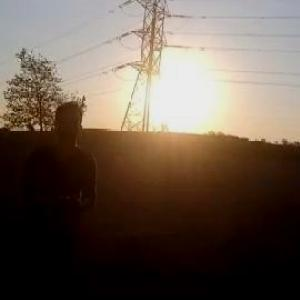follow: (15, 97, 101, 299)
